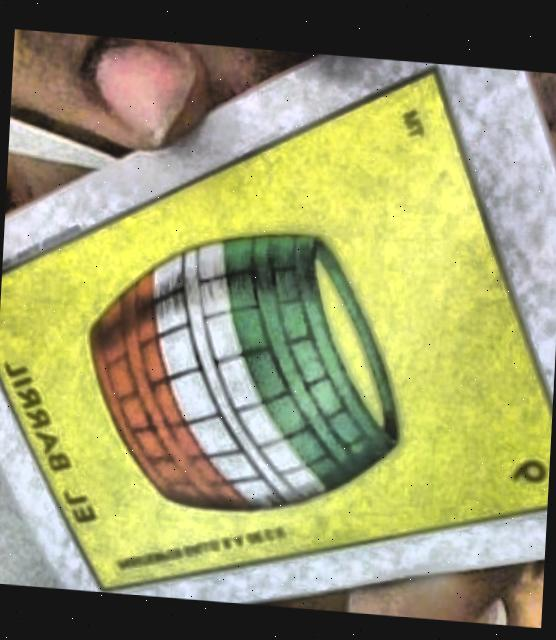El Barril: (0, 73, 552, 591)
